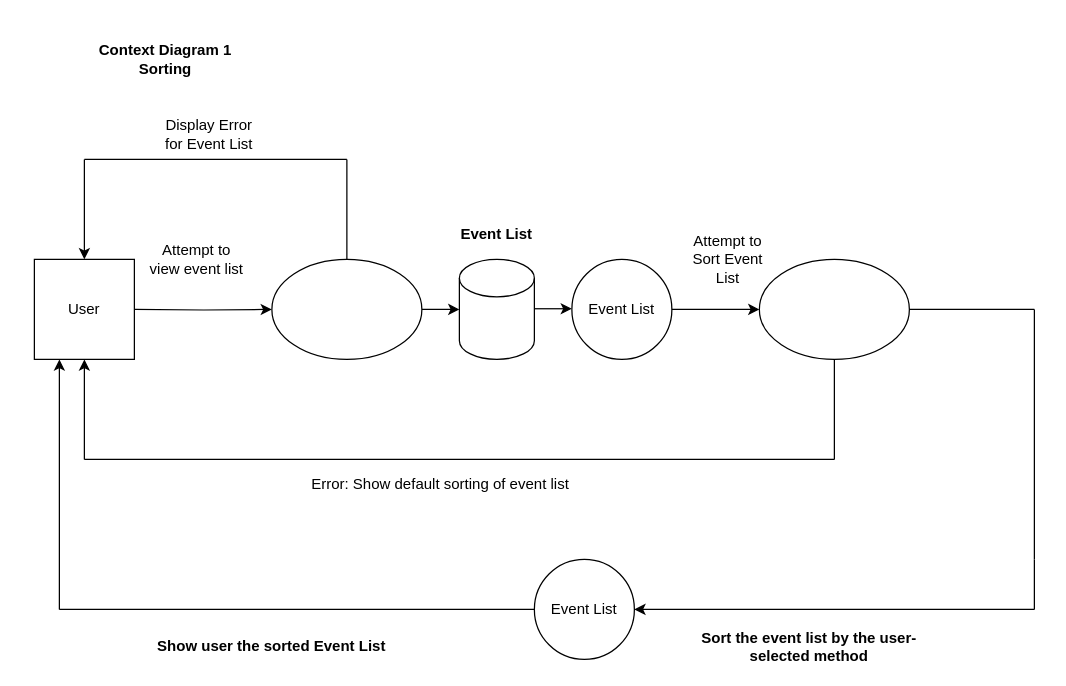
Image size: 1066x686. Some labels were removed from this diagram. The shapes that lost their labels are listed below. From the top down, each one's centre as x and y in pixels, then its label:
At point 346,308: "View Event List".
At point 833,308: "Select Sorting Option From Drop Down Menu".
